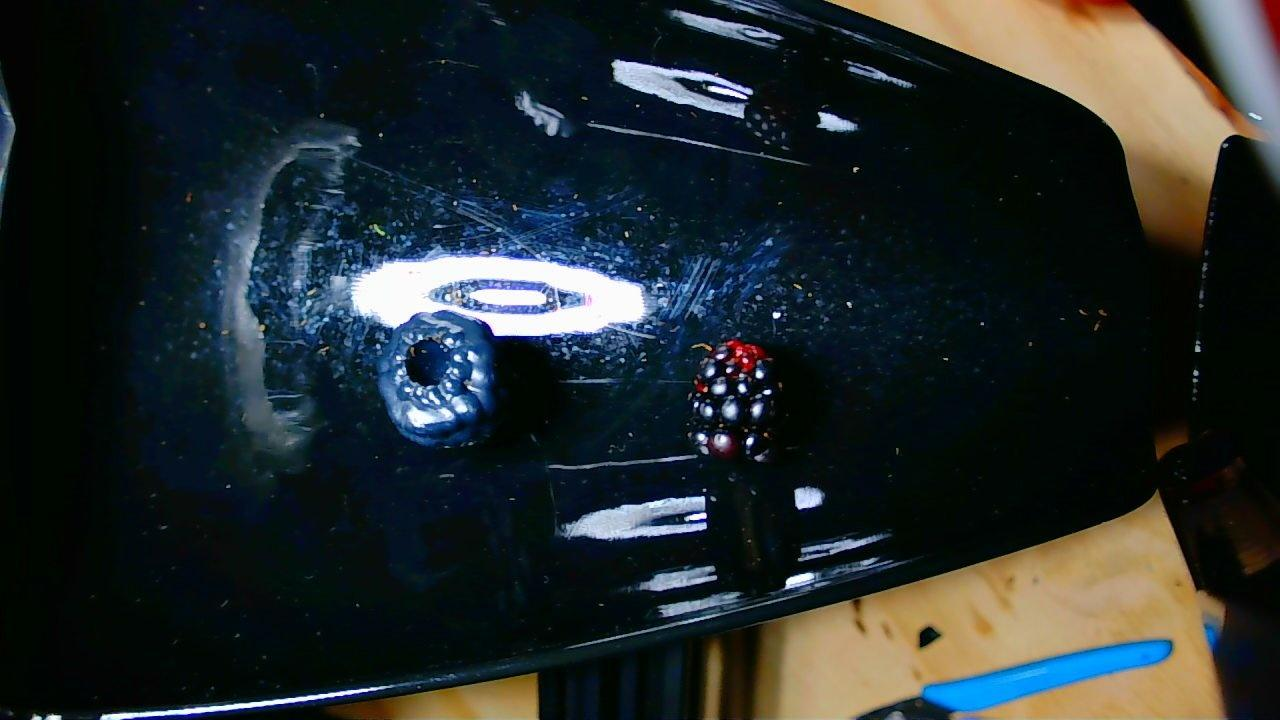berry: (378, 311, 499, 446), (689, 340, 781, 460)
